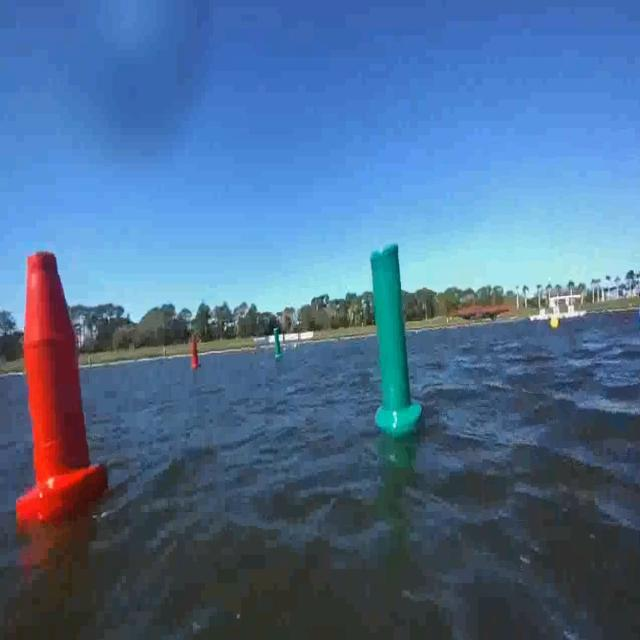green-column-buoy: (373, 241, 422, 435), (274, 329, 284, 361)
red-column-buoy: (18, 248, 113, 523), (189, 337, 199, 368)
yellow-buoy: (551, 314, 561, 332)
